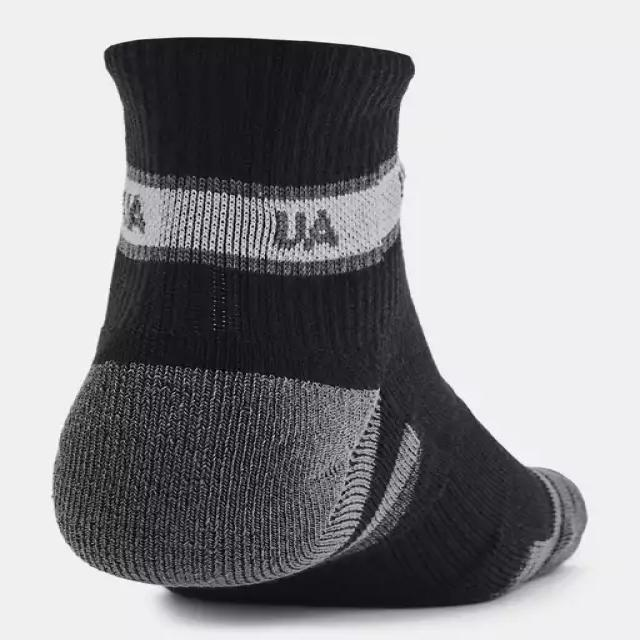sock: (51, 35, 588, 607)
